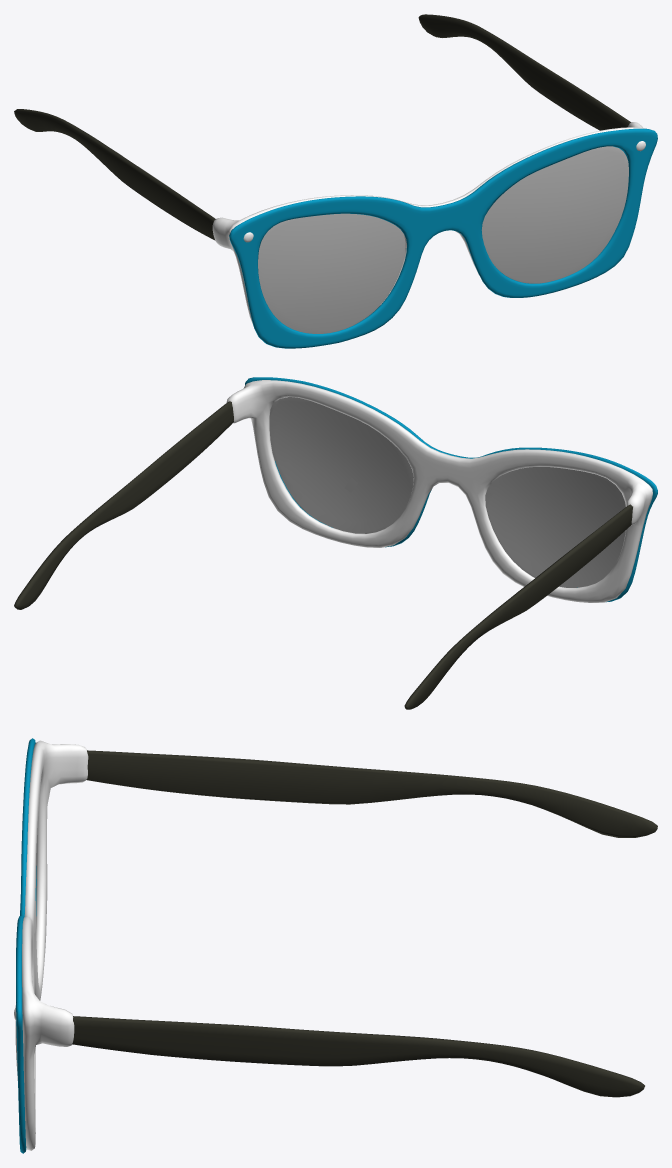
Rendered from Barriillas.fbx.
The picture shows the model from 3 angles, top to bottom: view 1: azimuth 30°, elevation 25°; view 2: azimuth 150°, elevation 25°; view 3: azimuth 270°, elevation 25°; orthographic projection. The views are drawn at different scales.
Visible parts, largest first — view 1: cristales_DonFroy, armazon_DonFroy, patitaI_DonFroy, patitaD_DonFroy, baseArmazon_DonFroy; view 2: cristales_DonFroy, baseArmazon_DonFroy, patitaI_DonFroy, patitaD_DonFroy, armazon_DonFroy; view 3: patitaD_DonFroy, patitaI_DonFroy, baseArmazon_DonFroy, armazon_DonFroy.
Part boxes in pixels (x1,y1,x2,y2): cristales_DonFroy: [258, 146, 628, 333]; armazon_DonFroy: [229, 128, 657, 348]; patitaI_DonFroy: [418, 14, 631, 130]; patitaD_DonFroy: [14, 109, 215, 240]; baseArmazon_DonFroy: [212, 122, 645, 323]; cristales_DonFroy: [269, 397, 625, 587]; baseArmazon_DonFroy: [226, 380, 652, 602]; patitaI_DonFroy: [14, 401, 233, 609]; patitaD_DonFroy: [404, 504, 632, 709]; armazon_DonFroy: [245, 377, 657, 602]; patitaD_DonFroy: [86, 750, 657, 837]; patitaI_DonFroy: [72, 1016, 644, 1097]; baseArmazon_DonFroy: [14, 740, 88, 1150]; armazon_DonFroy: [16, 738, 36, 1153].
Bounding box in the file's own units: 19.83 × 6.74 × 19.6.
